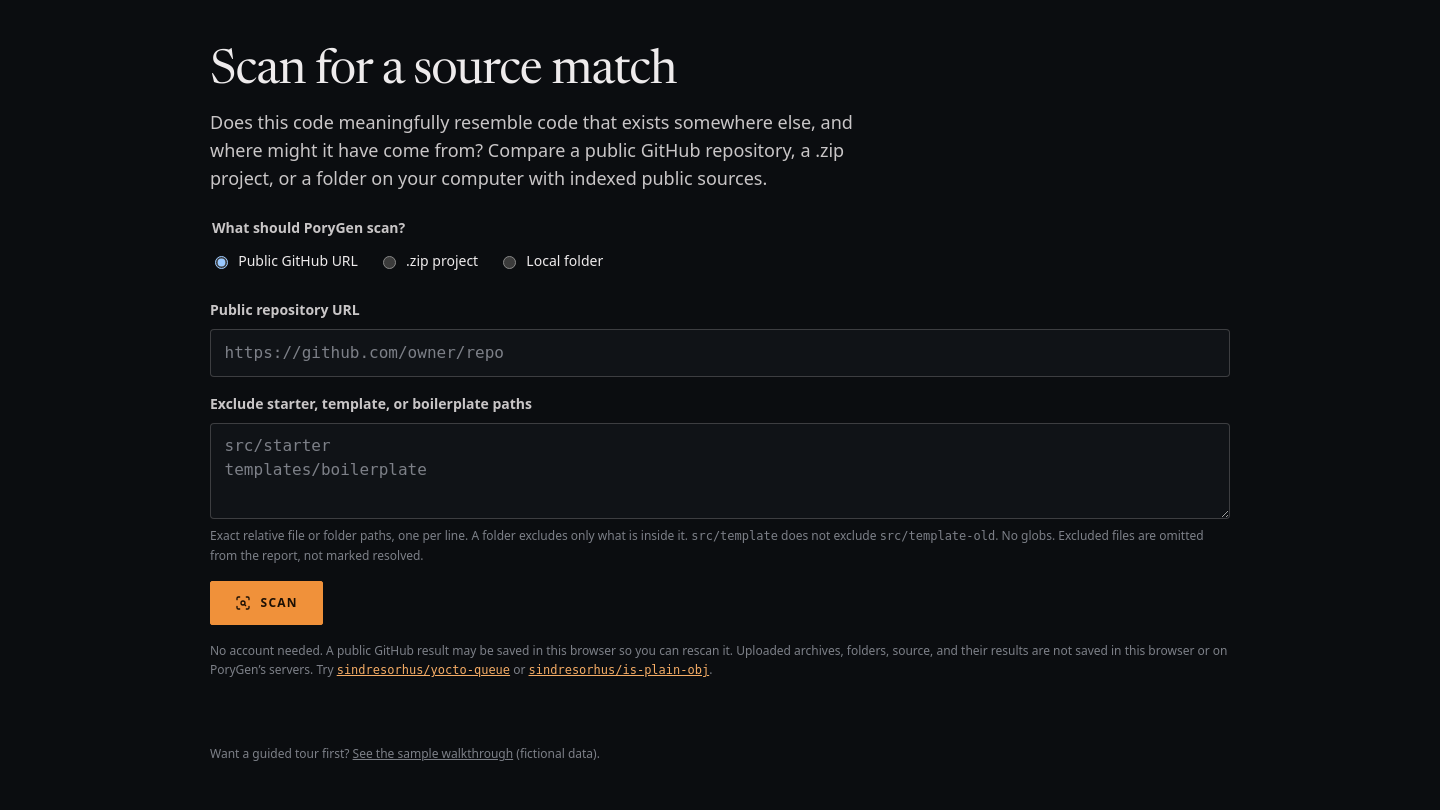
Scenario: public scan page › still posts the existing GitHub request
The width and height of the screenshot is (1440, 810).
In the field labelled "Public repository URL": [720, 353] box [210,329,1230,377], type "sindresorhus/yocto-queue"
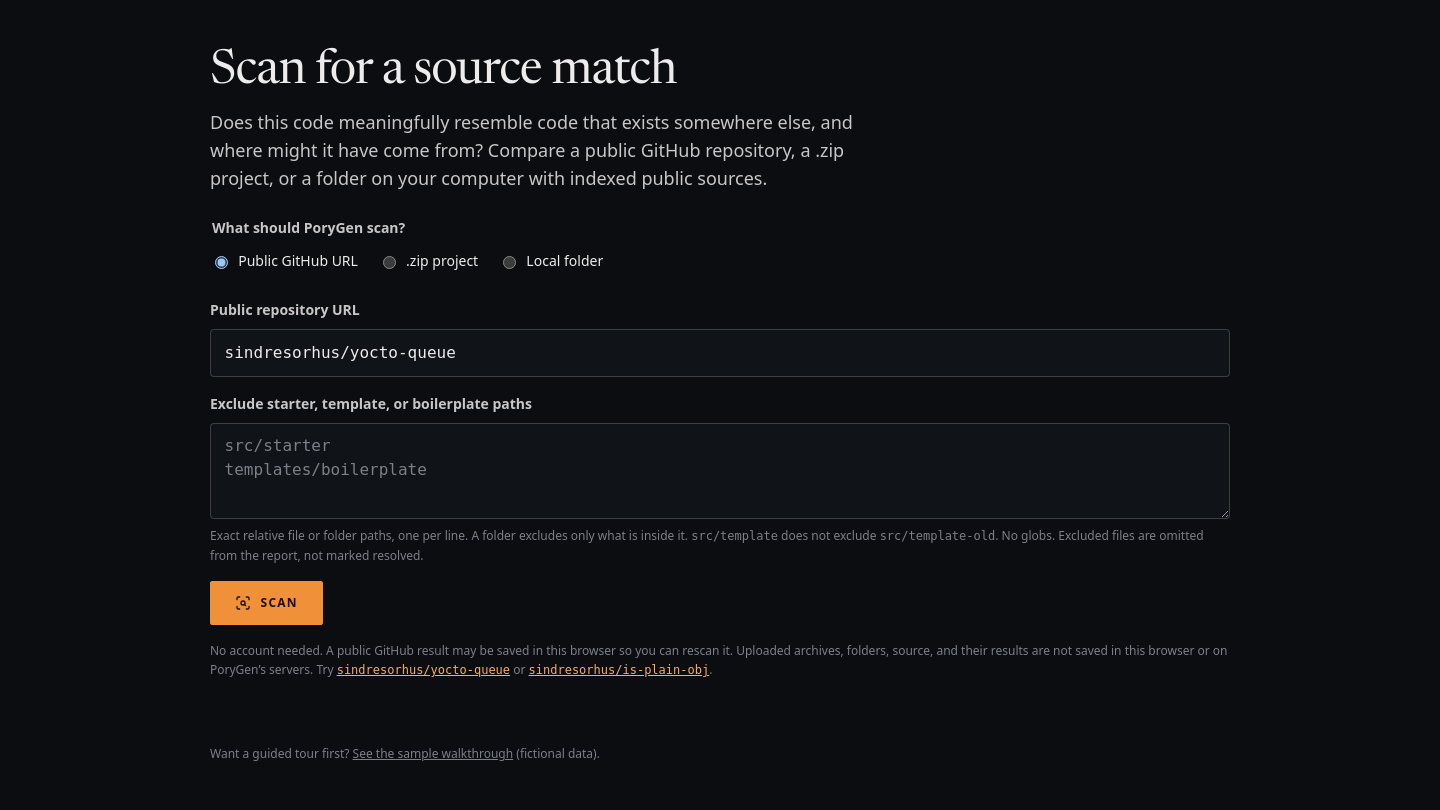
Click the button "Scan": [266, 603] box [210,581,323,625]
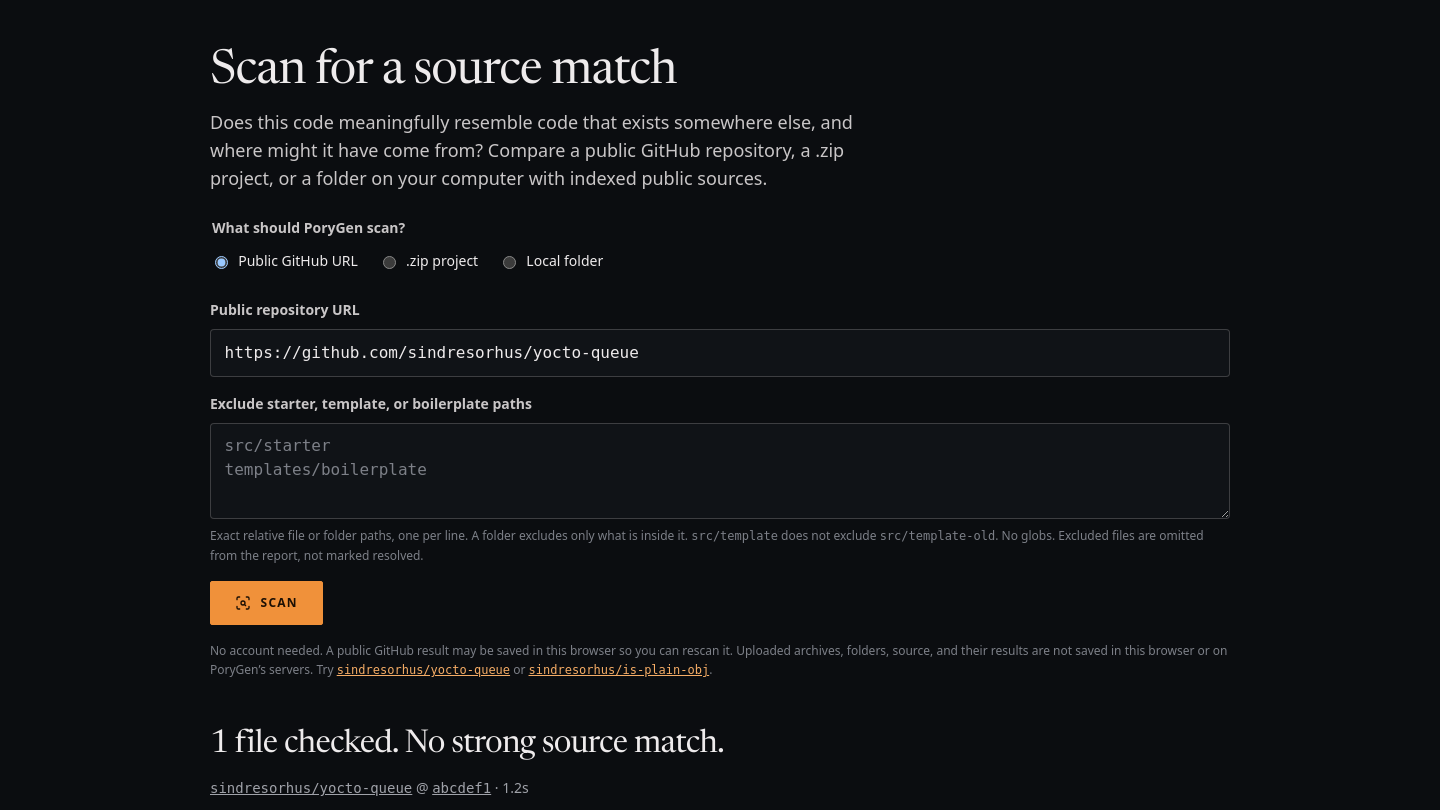
Expected: the heading "1 file checked. No strong source match." is shown, [210,728,724,760]
